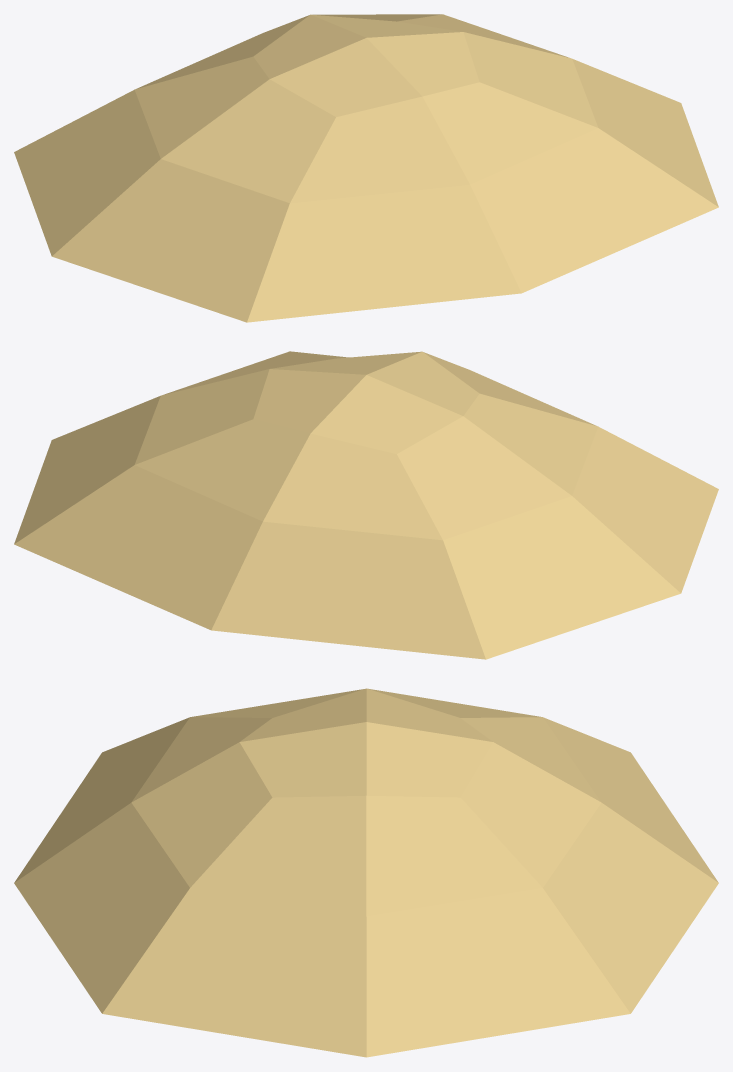
Rendered from Grass_Patch_001.fbx.
3 views of the same model, one above another, from view 1: azimuth 30°, elevation 25°; view 2: azimuth 150°, elevation 25°; view 3: azimuth 270°, elevation 25° (orthographic). The views are drawn at different scales.
Parts seen in each view (by area): view 1: Grass_Patch_001; view 2: Grass_Patch_001; view 3: Grass_Patch_001.
Part boxes in pixels (<box>): Grass_Patch_001: <box>14,14,718,322</box>; Grass_Patch_001: <box>14,351,718,659</box>; Grass_Patch_001: <box>14,688,718,1057</box>.
Size of the model in its own units: 0.4015 by 0.0865 by 0.3431.
